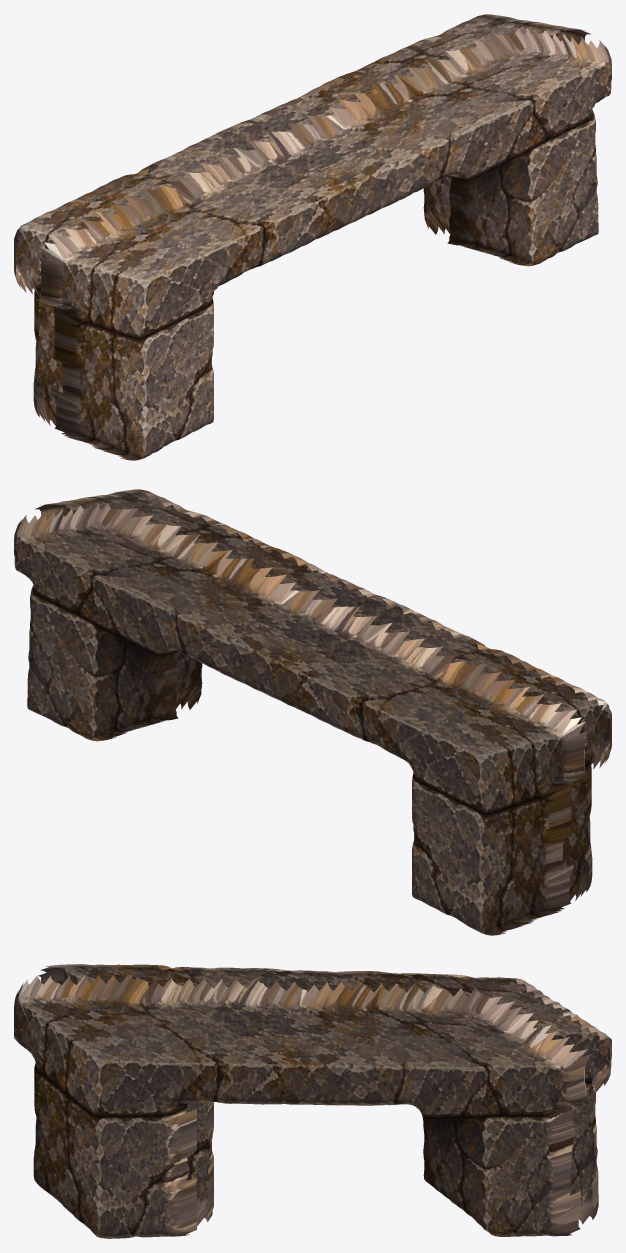
File: v4-crypt-chamber-scatter-stone-bench.glb
The picture shows the model from 3 angles, top to bottom: view 1: azimuth 30°, elevation 25°; view 2: azimuth 150°, elevation 25°; view 3: azimuth 330°, elevation 25°; orthographic projection.
Visible parts, largest first — view 1: v4-crypt-chamber-scatter-stone-bench; view 2: v4-crypt-chamber-scatter-stone-bench; view 3: v4-crypt-chamber-scatter-stone-bench.
Part boxes in pixels (bbox=[...]): v4-crypt-chamber-scatter-stone-bench: bbox=[14, 14, 611, 460]; v4-crypt-chamber-scatter-stone-bench: bbox=[14, 489, 611, 935]; v4-crypt-chamber-scatter-stone-bench: bbox=[14, 964, 611, 1238].
Bounding box in the file's own units: 0.7949 × 0.4499 × 0.1104.
1 material, 1 textured.
